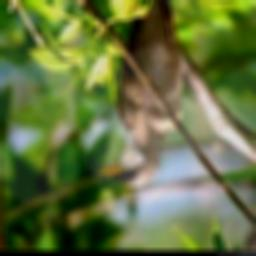Cuckoo: (92, 0, 182, 188)
